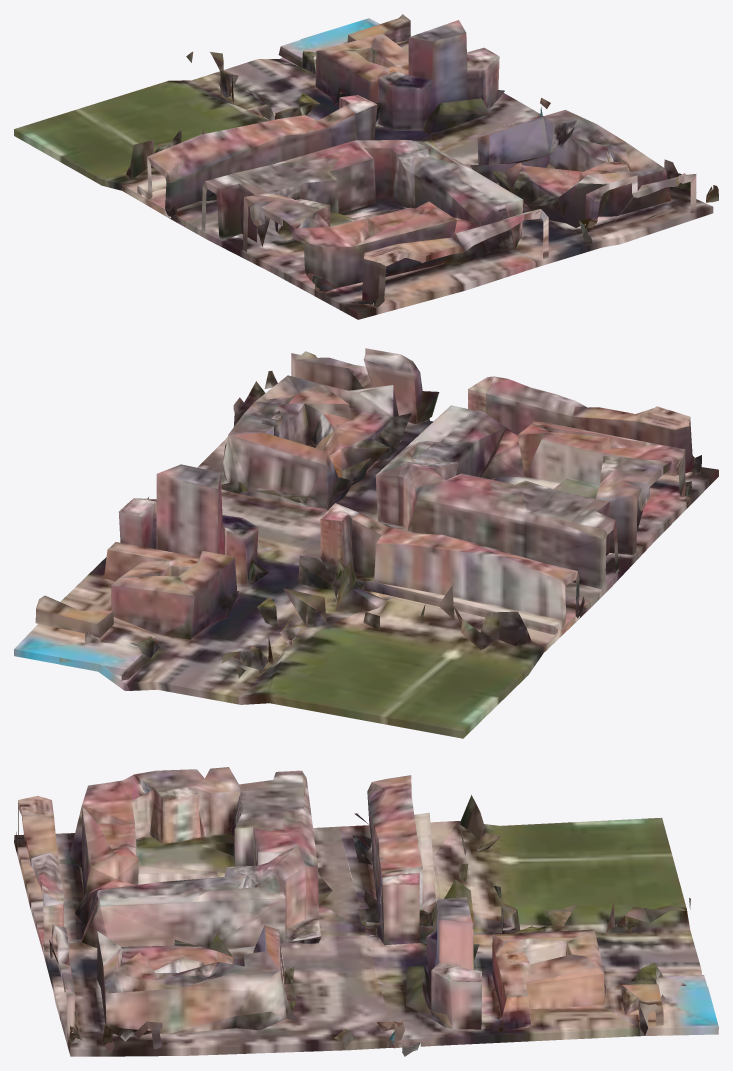
3 views of the same model, one above another, from view 1: azimuth 30°, elevation 25°; view 2: azimuth 150°, elevation 25°; view 3: azimuth 270°, elevation 25° (orthographic). The views are drawn at different scales.
Visible parts, largest first — view 1: Mesh_0; view 2: Mesh_0; view 3: Mesh_0.
Boxes of the visible parts, x1,y1,x2,y2 form: Mesh_0: (14, 14, 718, 319); Mesh_0: (14, 348, 718, 738); Mesh_0: (14, 767, 718, 1056).
Bounding box in the file's own units: 270 × 59.53 × 330.
2 materials, 2 textured.
